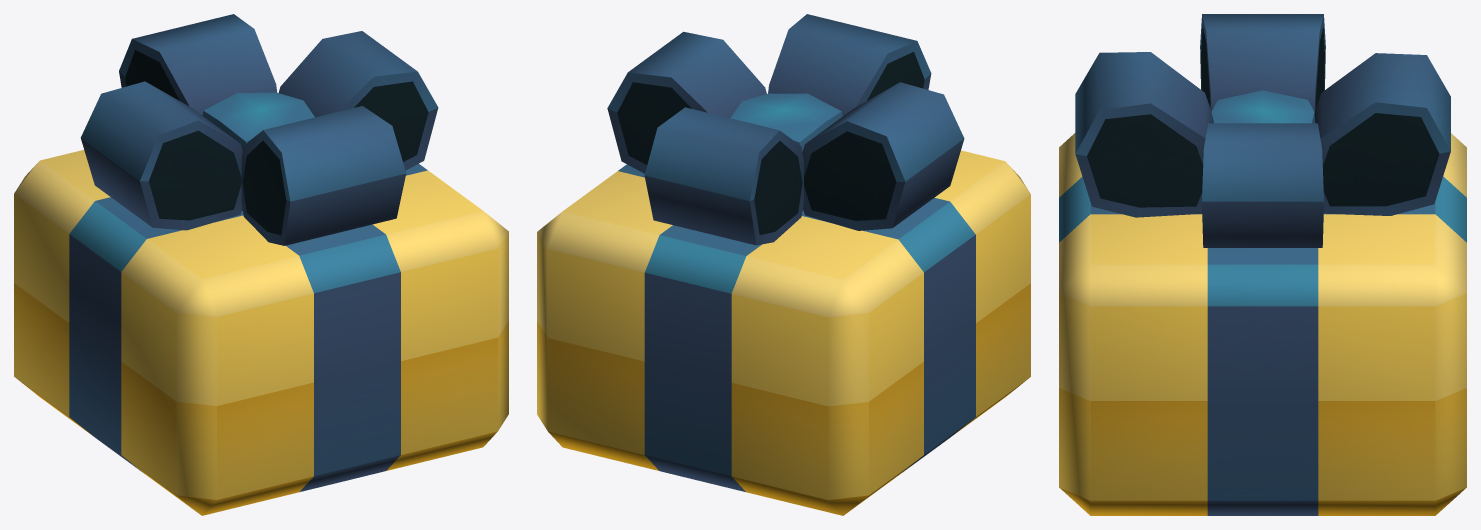
The model's file is presi_square_5_yellow.fbx.
3 views of the same model, side by side, from view 1: azimuth 30°, elevation 25°; view 2: azimuth 150°, elevation 25°; view 3: azimuth 270°, elevation 25° (orthographic). The views are drawn at different scales.
Visible parts, largest first — view 1: presi_square_5_yellow; view 2: presi_square_5_yellow; view 3: presi_square_5_yellow.
Part boxes in pixels (x1,y1,x2,y2): presi_square_5_yellow: (14, 14, 508, 515); presi_square_5_yellow: (537, 14, 1030, 515); presi_square_5_yellow: (1059, 14, 1466, 515).
Size of the model in its own units: 75 by 74 by 75.
1 material, 1 textured.
